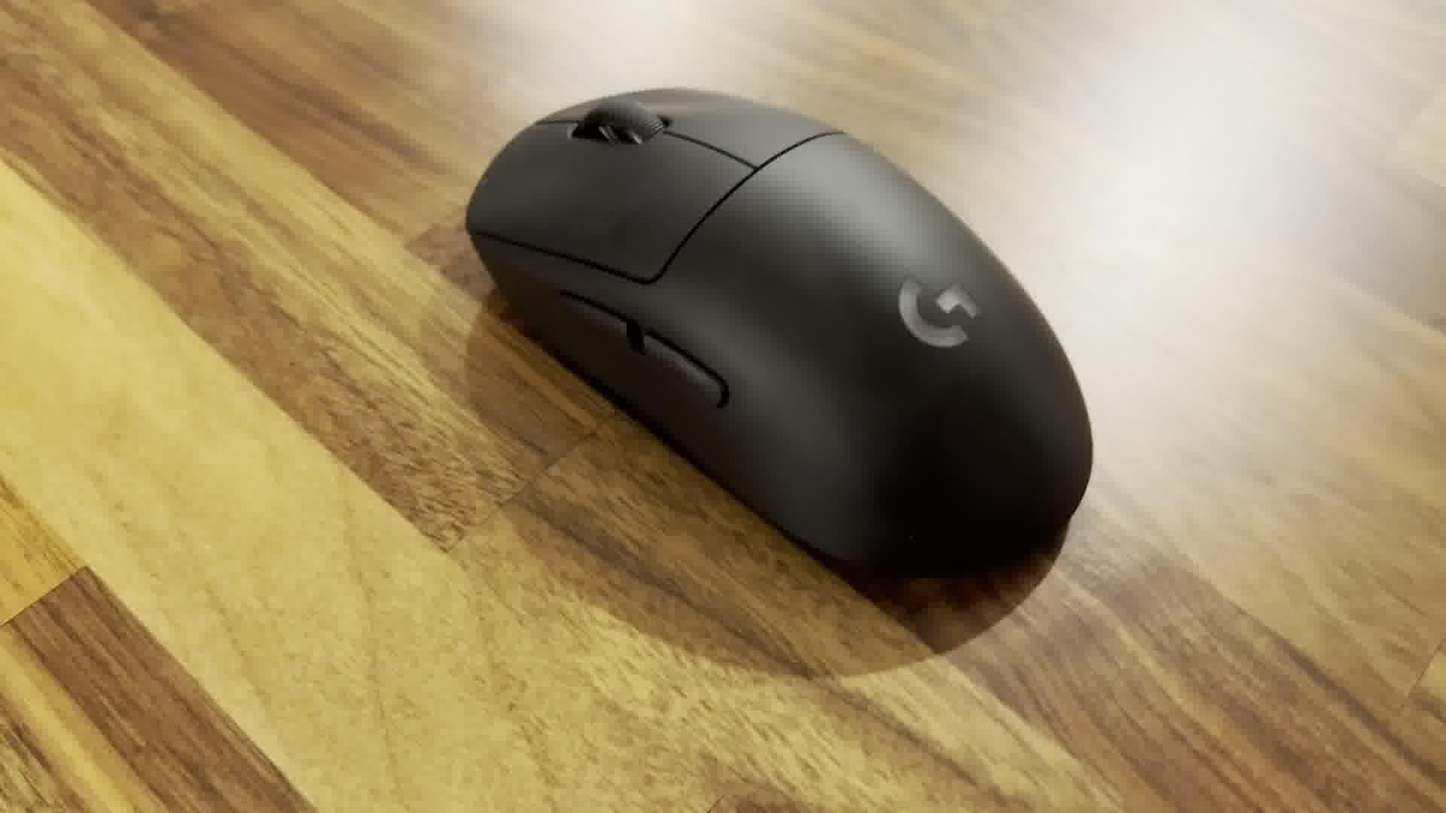logicool: (458, 78, 1099, 585)
